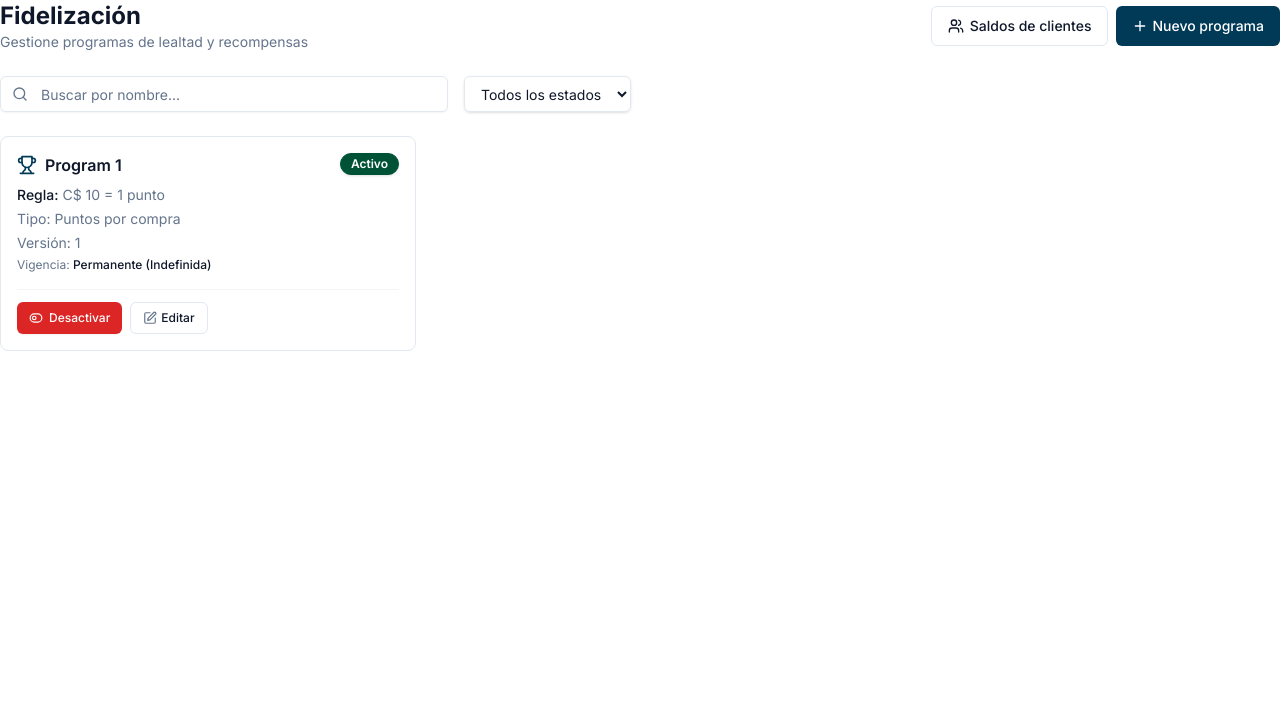
Test: LoyaltyPage Profit-aware Integration › shows "Métricas" button on reward and opens ProfitAware dialog when clicked
# Expand program to see rewards
Step 1. Click the heading "Program 1" → (83, 165), box [45,153,122,177]
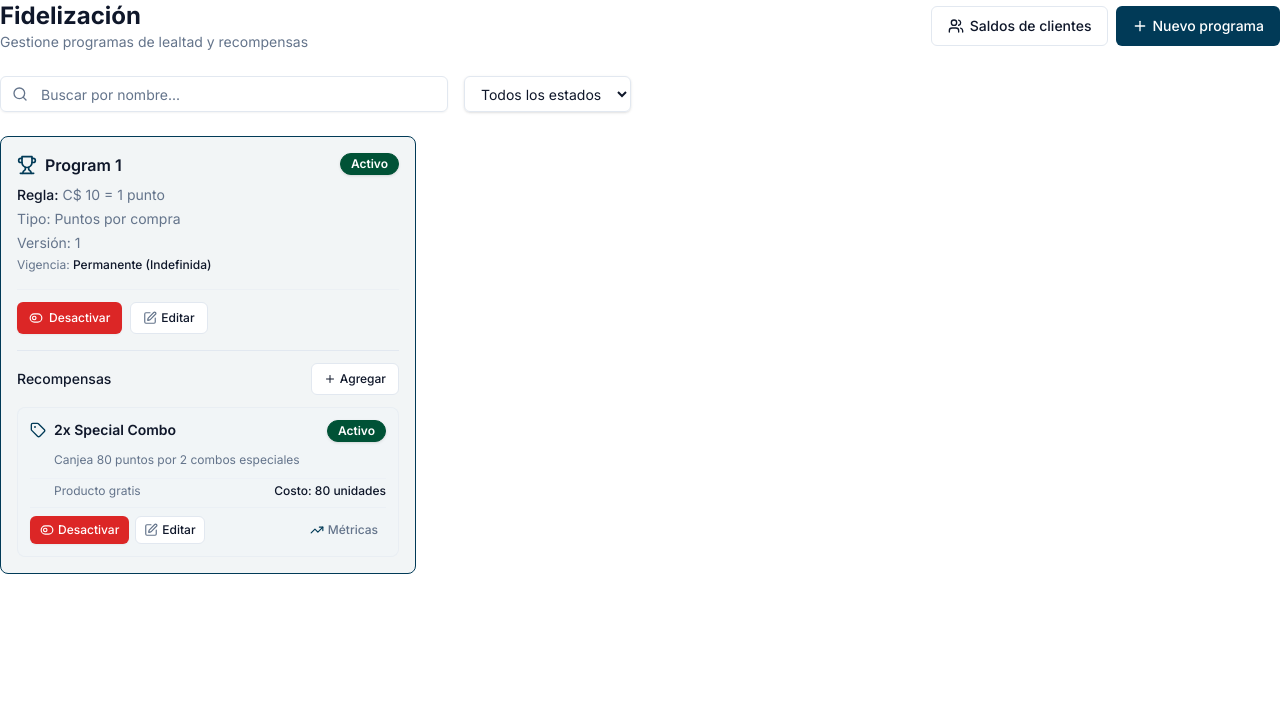
Check: the text "2x Special Combo" is shown, box [54,421,176,438]
Check: the button titled "Ver métricas económicas" is shown
# Click "Métricas" button
Step 2. Click the button titled "Ver métricas económicas" → (344, 530), box [302,516,386,544]
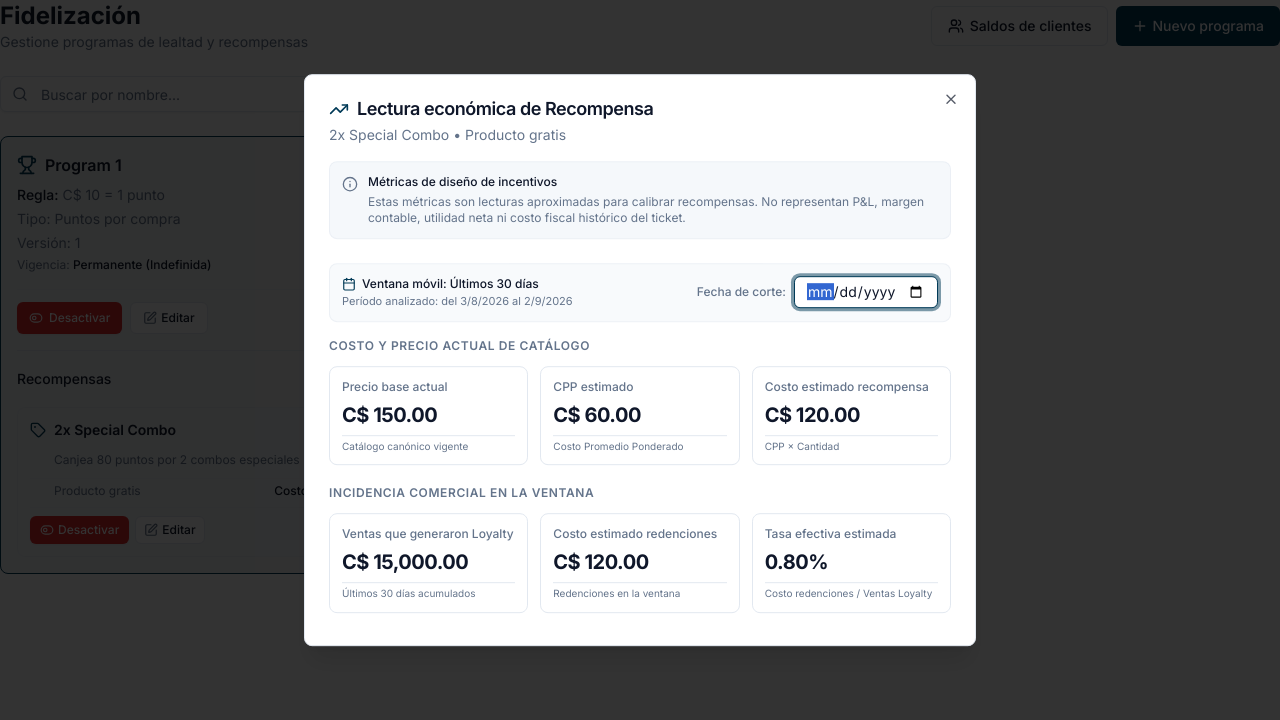
Check: the heading "Lectura económica de Recompensa" is shown, box [357,100,653,118]
